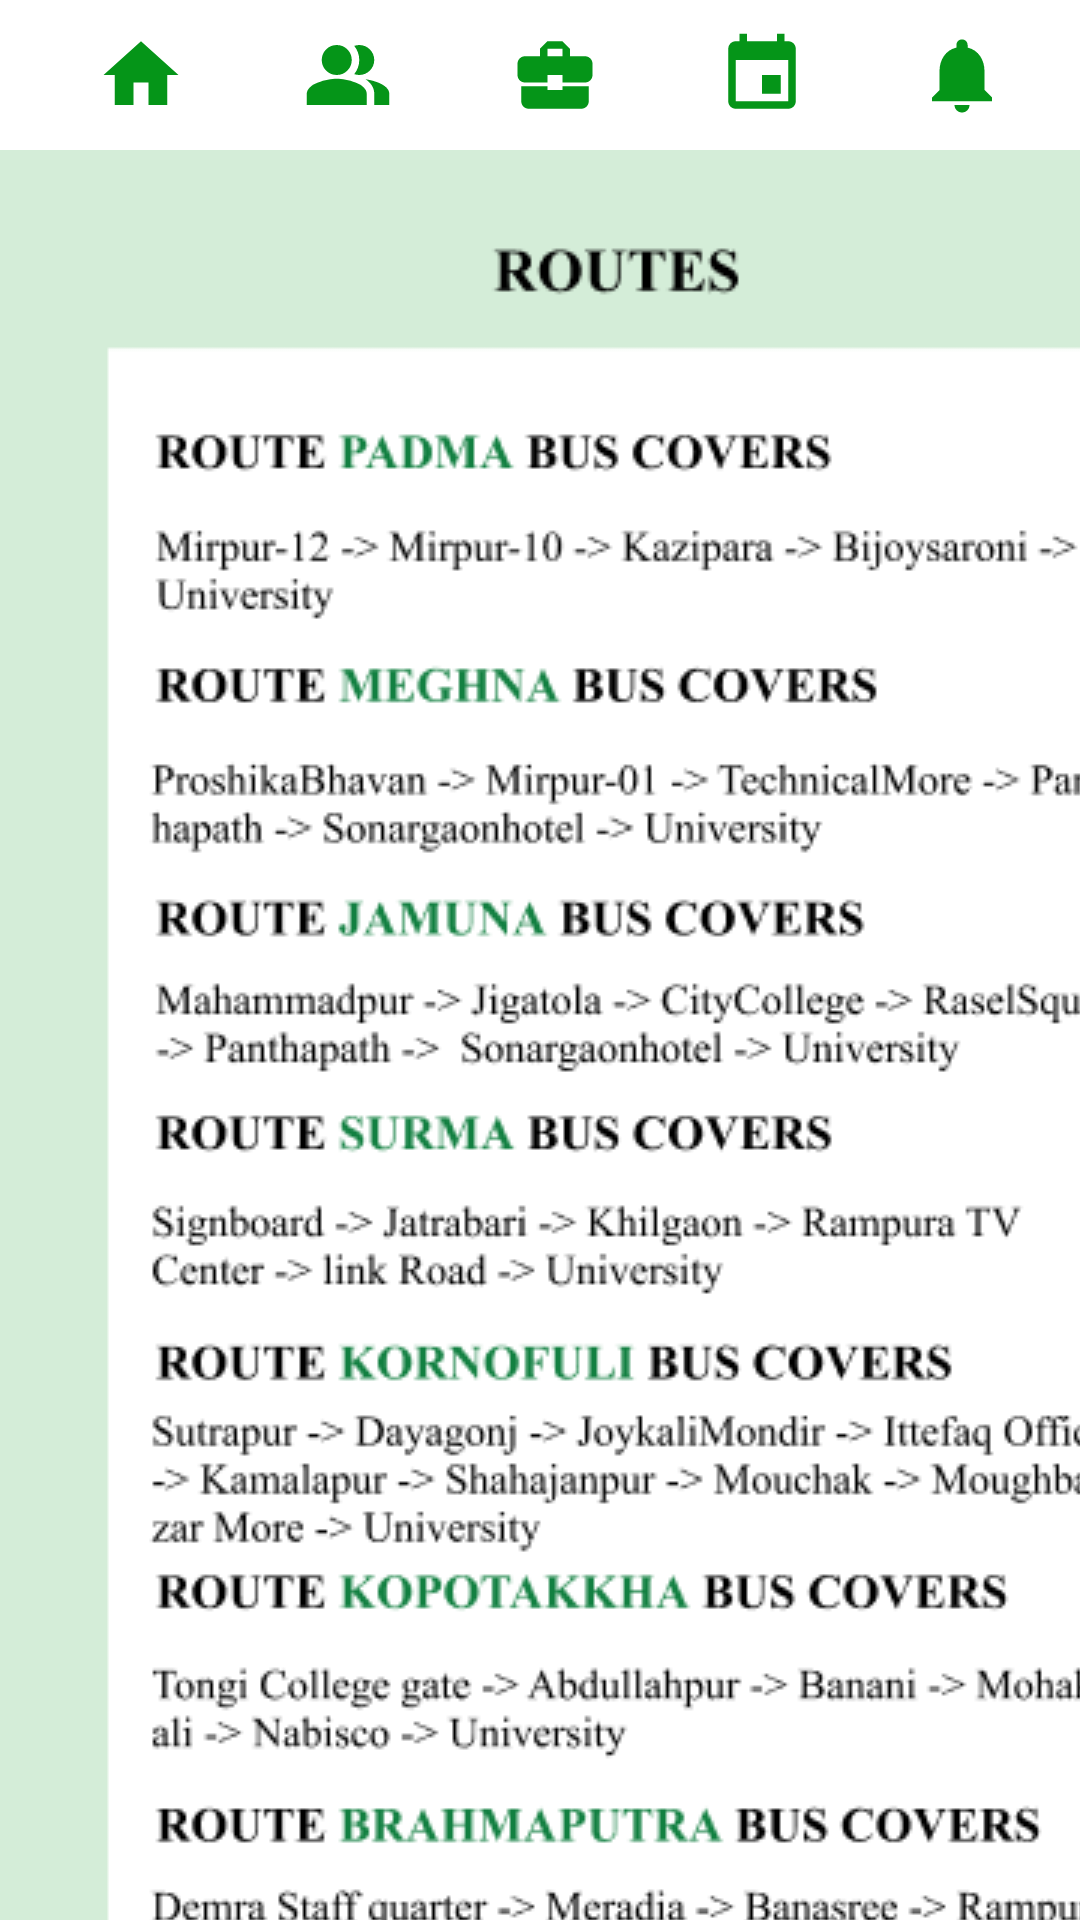

Screen size 1080px x 1920px. Icon name, then its box in pixels as (x1, y1, x2, y2):
business center: (517, 41, 593, 109)
event: (728, 33, 796, 109)
home: (104, 41, 178, 105)
notifications: (932, 39, 992, 113)
people: (306, 45, 390, 105)
